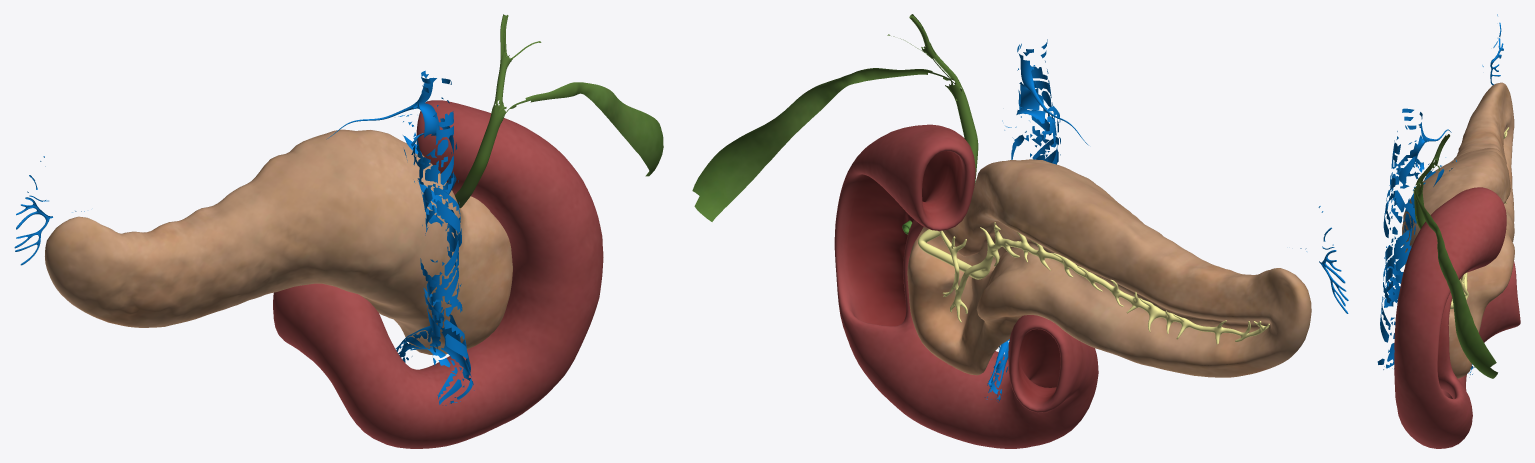
Rendered from pancreas.glb.
3 renders of one model, left to right at view 1: azimuth 30°, elevation 25°; view 2: azimuth 150°, elevation 25°; view 3: azimuth 270°, elevation 25°, orthographic. The views are drawn at different scales.
Parts seen in each view (by area): view 1: Object_3; view 2: Object_3; view 3: Object_3.
Part boxes in pixels (<box>): Object_3: <box>14,14,663,448</box>; Object_3: <box>692,14,1348,448</box>; Object_3: <box>1377,14,1520,448</box>.
Bounding box in the file's own units: 22.97 × 13.85 × 5.53.
Materials: 1 (1 with a texture image).
